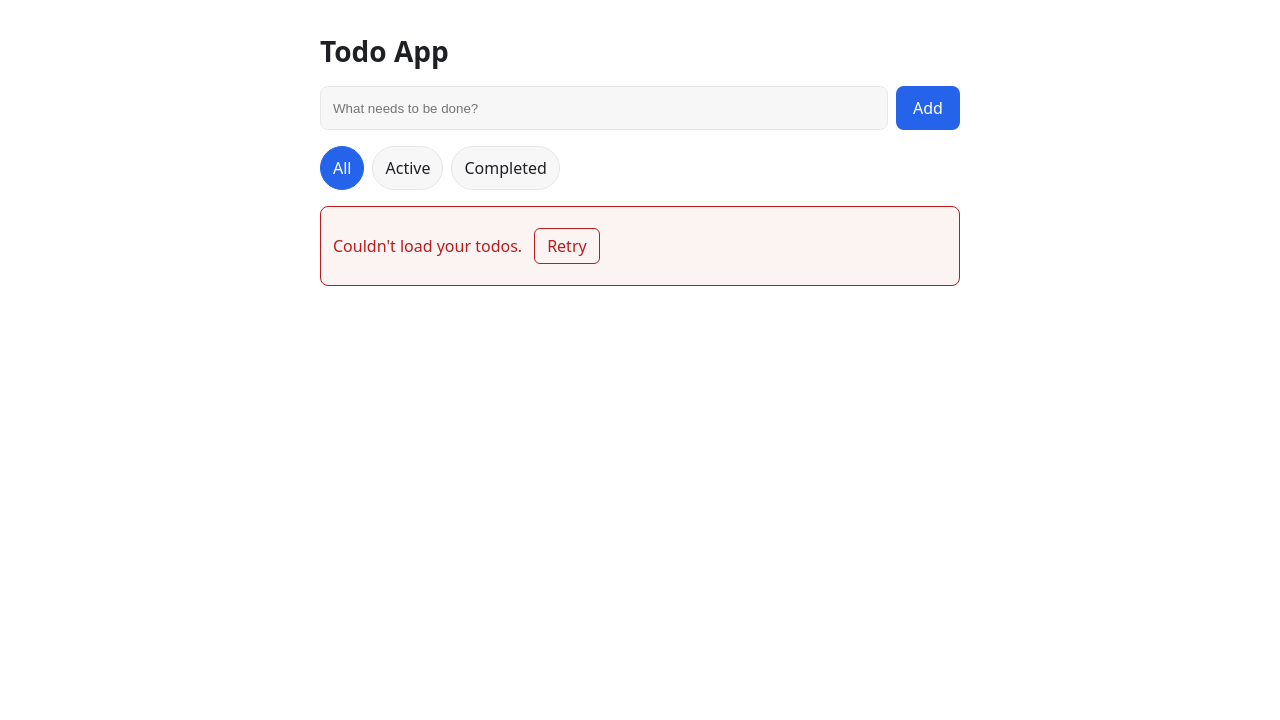
Scenario: App error state › Retry button re-runs the query and clears the banner on success (E3.S1 I4)
This screenshot has width=1280, height=720.
Expected: the text "Couldn't load your todos." is shown, [333,235,522,257]
What coordinates should you click on to do the following:
click the button "Retry"
I would click on:
 (567, 246)
Its box is [534,228,600,264].
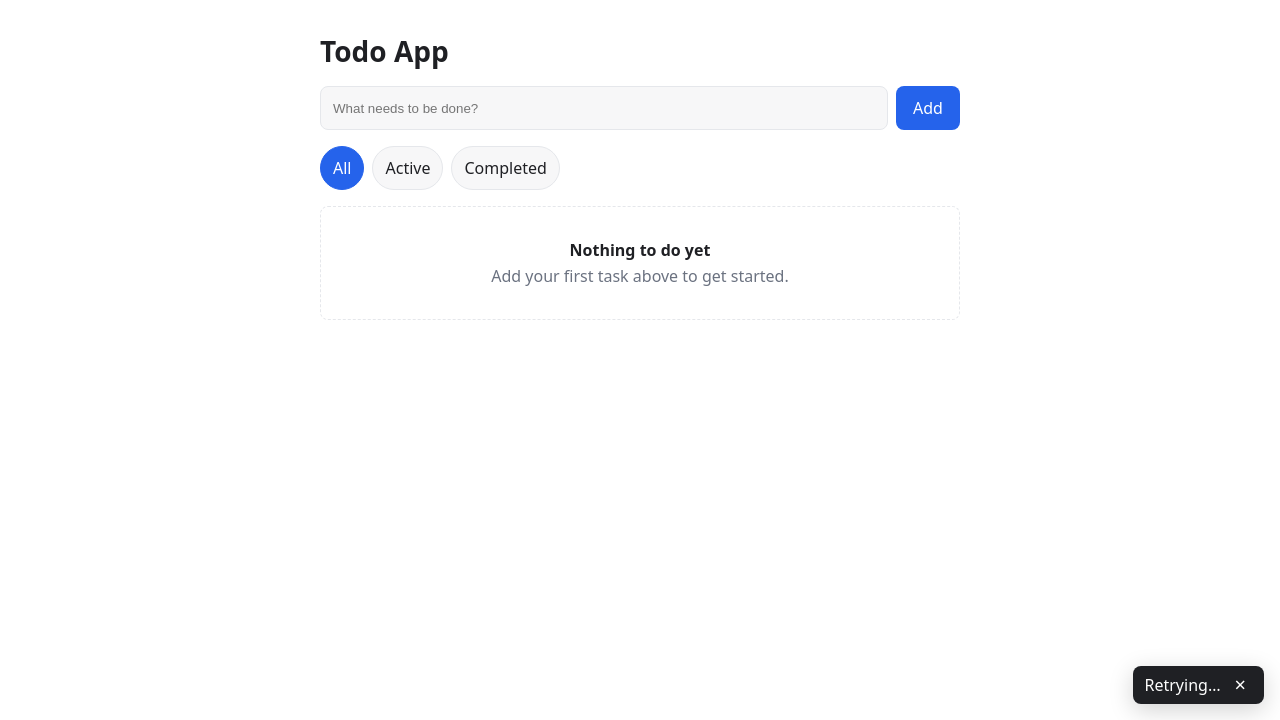
Result: the text "Couldn't load your todos" is gone
Result: the text "Nothing to do yet" is shown at [570,239,710,261]
